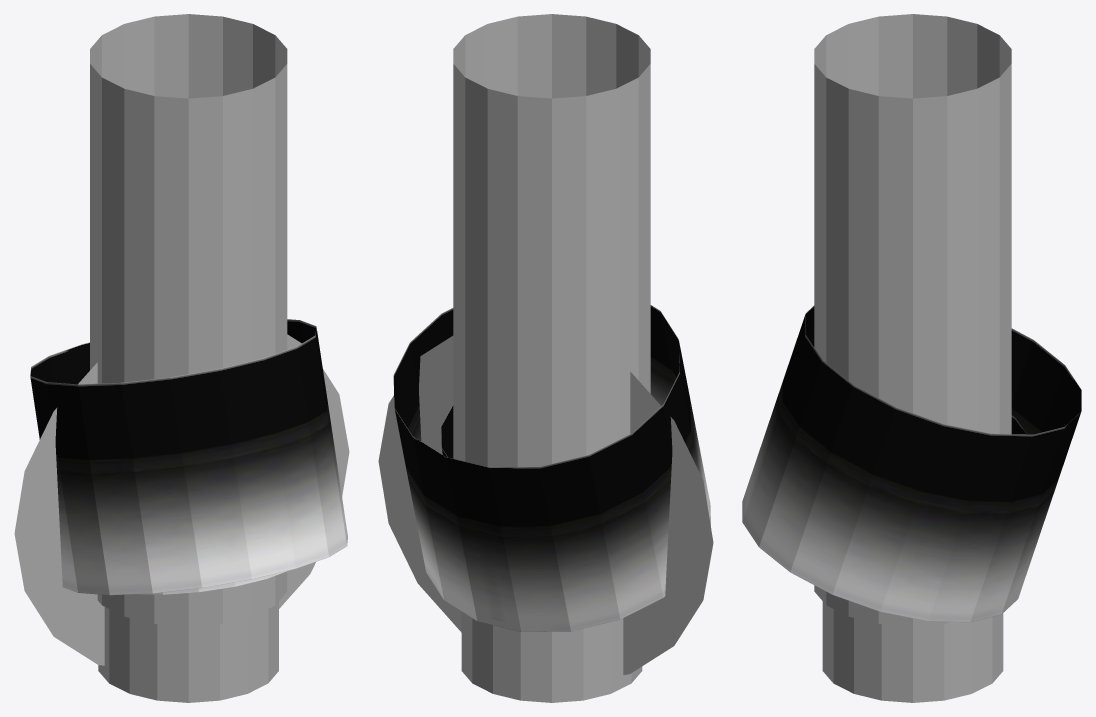
The model's file is Shadow #5262423.fbx.
3 views of the same model, side by side, from view 1: azimuth 30°, elevation 25°; view 2: azimuth 150°, elevation 25°; view 3: azimuth 270°, elevation 25° (orthographic).
Visible parts, largest first — view 1: effect_yuan_103_mo_UP (×2), effect_yuan_103_mo (1) (×2), effect_aolabeibei_baoqi_01; view 2: effect_yuan_103_mo_UP (×2), effect_yuan_103_mo (1) (×2), effect_aolabeibei_baoqi_01; view 3: effect_yuan_103_mo_UP (×2), effect_yuan_103_mo (1).
Part boxes in pixels (left/top/right/bottom): effect_yuan_103_mo_UP (×2): left=90, top=14, right=287, bottom=702; effect_yuan_103_mo (1) (×2): left=30, top=319, right=347, bottom=595; effect_aolabeibei_baoqi_01: left=14, top=334, right=349, bottom=665; effect_yuan_103_mo_UP (×2): left=453, top=14, right=650, bottom=702; effect_yuan_103_mo (1) (×2): left=393, top=305, right=710, bottom=631; effect_aolabeibei_baoqi_01: left=378, top=336, right=713, bottom=674; effect_yuan_103_mo_UP (×2): left=814, top=14, right=1011, bottom=702; effect_yuan_103_mo (1): left=742, top=305, right=1081, bottom=622.
Bounding box in the file's own units: 4.71 × 8.24 × 4.13.
